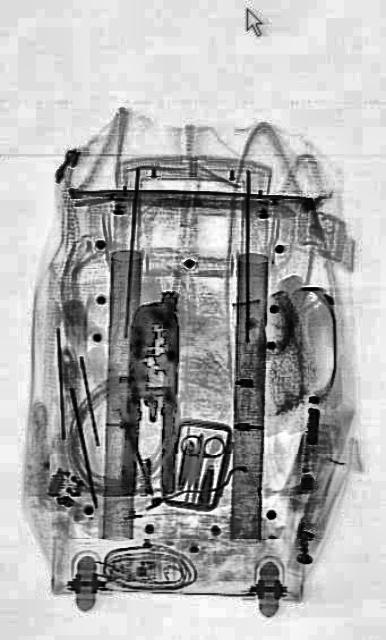Pliers: (118, 298, 182, 500)
Scissors: (171, 424, 225, 508)
